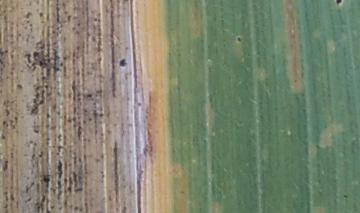tarspot: (40, 174, 51, 186), (117, 57, 128, 68), (32, 50, 40, 60), (37, 9, 45, 18), (135, 99, 143, 107), (341, 193, 349, 200), (334, 1, 343, 7), (236, 35, 242, 43)
